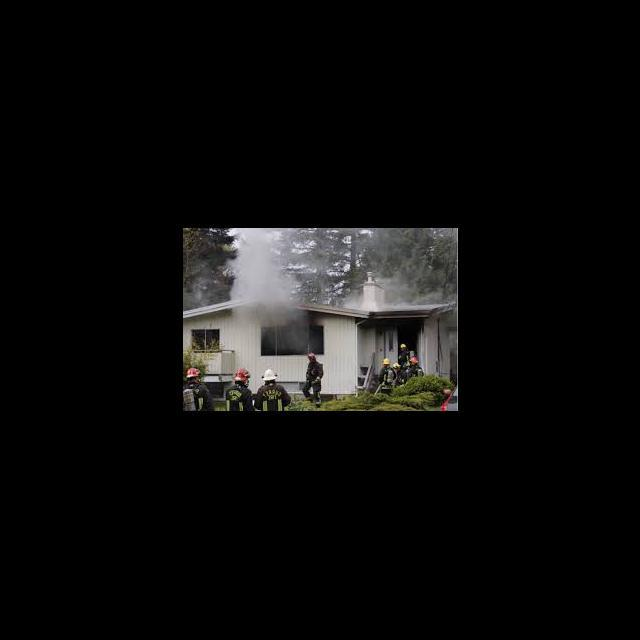Smoke: (228, 230, 292, 332), (348, 282, 432, 312)
